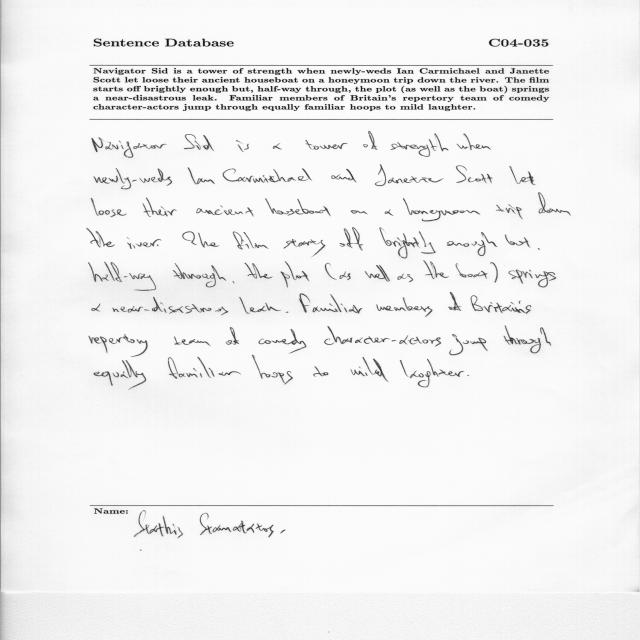word: (403, 292, 531, 317), (324, 326, 441, 347), (113, 297, 229, 315), (89, 262, 156, 291), (400, 359, 464, 387), (403, 198, 480, 221), (379, 228, 436, 259), (94, 168, 172, 189), (168, 357, 241, 379), (92, 137, 167, 158), (95, 360, 147, 390), (375, 165, 444, 186), (391, 133, 449, 157), (89, 334, 148, 357), (223, 168, 312, 183), (504, 326, 552, 353), (173, 264, 226, 288), (447, 232, 497, 256), (252, 355, 293, 384), (265, 199, 331, 217), (259, 329, 307, 353), (351, 357, 389, 382), (508, 270, 556, 288), (450, 334, 488, 356), (299, 294, 342, 313), (281, 261, 310, 288), (538, 193, 571, 216), (284, 239, 326, 257), (239, 297, 281, 314), (196, 205, 254, 217), (91, 198, 127, 217), (456, 166, 493, 184), (233, 232, 269, 250), (143, 198, 177, 217), (87, 228, 115, 248), (340, 228, 364, 251), (457, 134, 491, 150), (341, 304, 393, 314), (509, 166, 536, 185), (456, 263, 488, 279), (184, 134, 214, 151), (423, 261, 449, 279), (244, 263, 273, 279), (188, 168, 215, 185), (305, 140, 348, 150), (365, 265, 390, 282), (127, 237, 161, 249), (496, 205, 523, 220), (331, 169, 357, 182), (505, 235, 531, 248), (174, 337, 210, 346), (198, 233, 219, 248), (363, 131, 377, 150), (226, 327, 239, 345), (182, 231, 197, 245), (325, 263, 337, 279), (490, 262, 498, 283), (314, 366, 329, 377), (236, 140, 249, 152), (397, 274, 413, 282), (340, 271, 351, 280), (350, 210, 368, 214), (92, 304, 100, 312), (273, 143, 282, 150), (385, 209, 394, 216), (394, 307, 406, 311), (538, 248, 540, 250), (233, 281, 235, 283), (286, 311, 288, 313), (467, 375, 469, 376)
